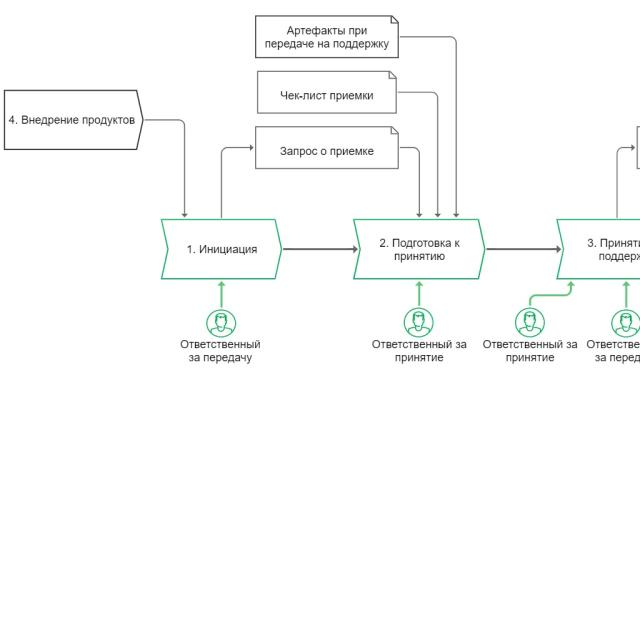arrow: (398, 32, 462, 220), (397, 87, 442, 218), (143, 115, 188, 219), (220, 145, 255, 219), (398, 145, 423, 219), (613, 143, 635, 219), (526, 280, 575, 308), (281, 242, 358, 256), (485, 241, 562, 254), (216, 280, 228, 310), (620, 278, 631, 310), (412, 280, 424, 308)
circle: (515, 307, 544, 337), (207, 309, 236, 338), (404, 308, 433, 337), (612, 309, 639, 337)
